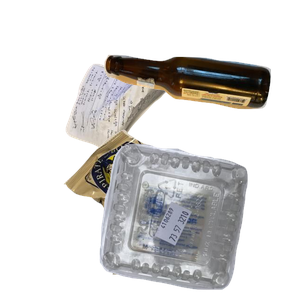glass: (101, 52, 300, 154)
paper: (63, 61, 242, 206)
plastic: (97, 141, 300, 300)
trash: (61, 127, 260, 300)
